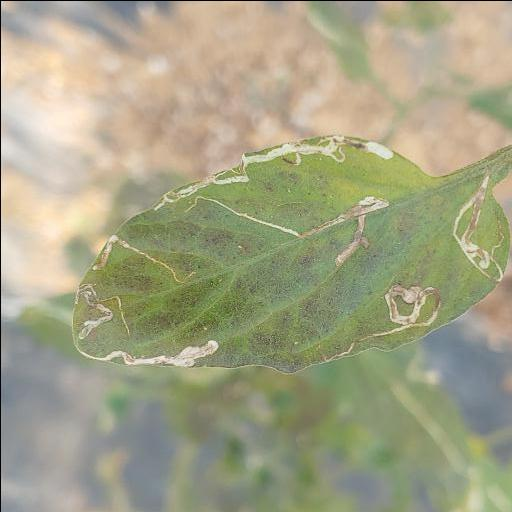Leaf Miner: (66, 131, 512, 377)
